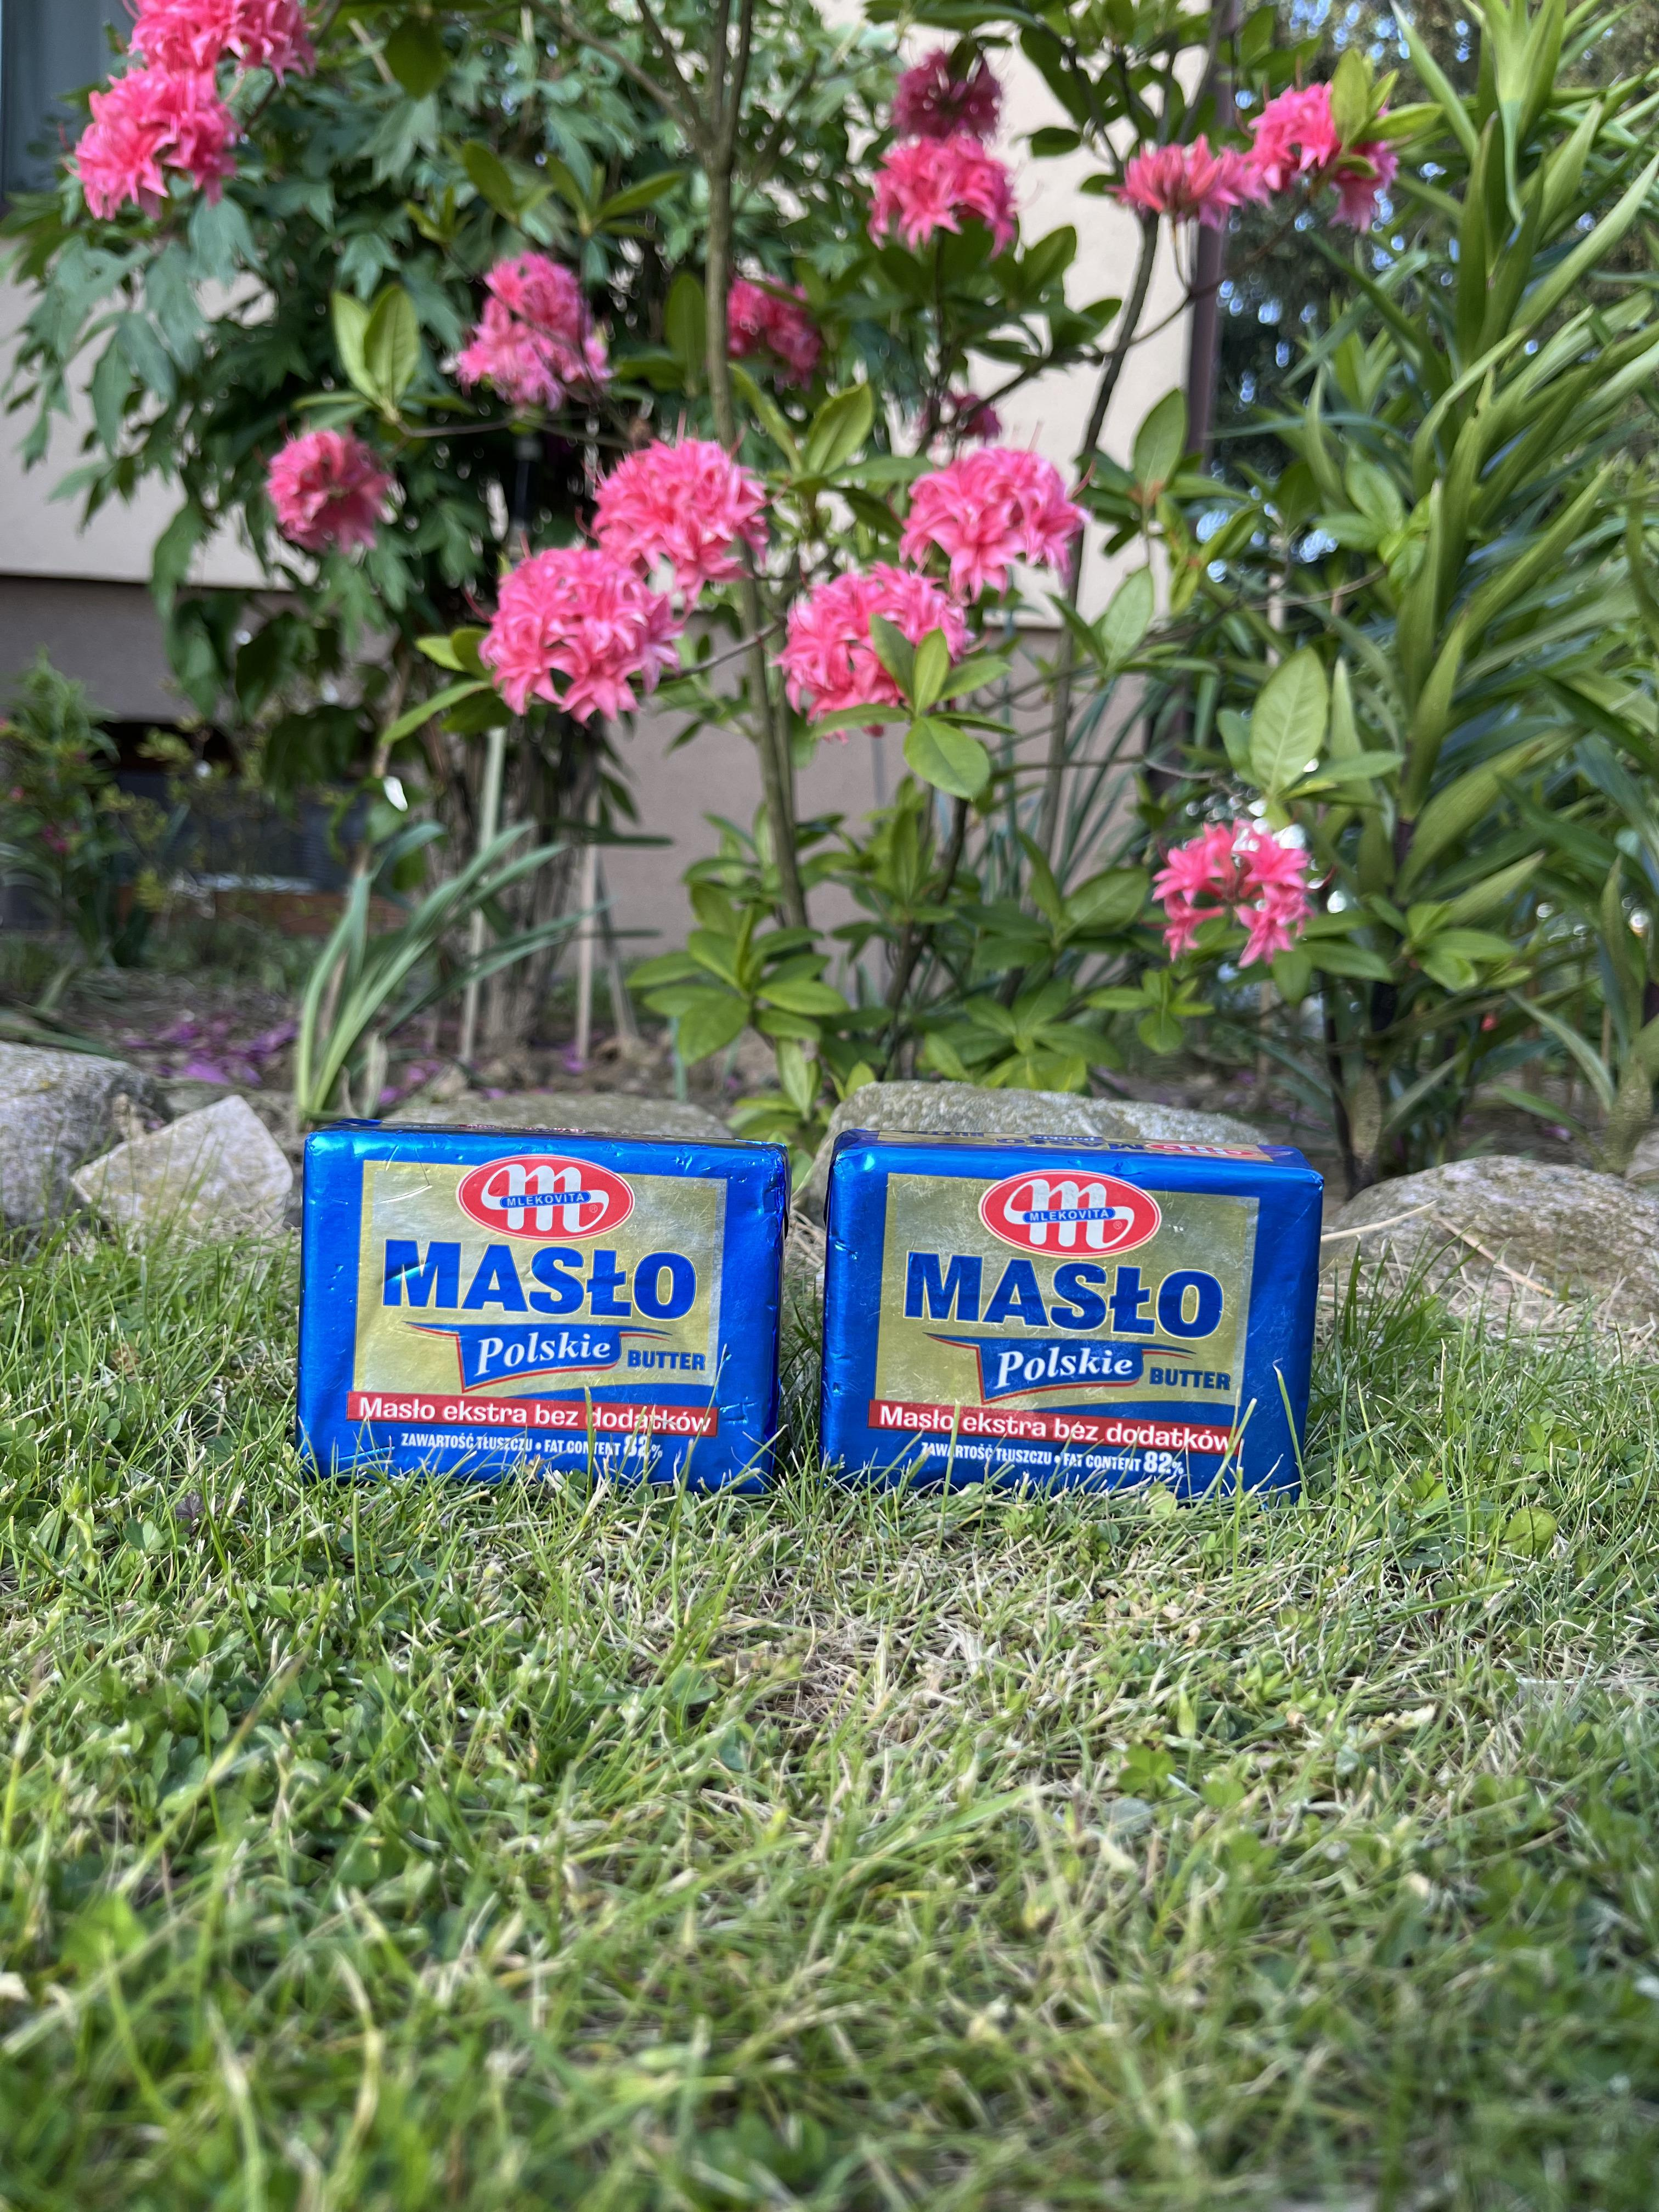Butter: (295, 1134, 786, 1501), (831, 1134, 1319, 1501)
